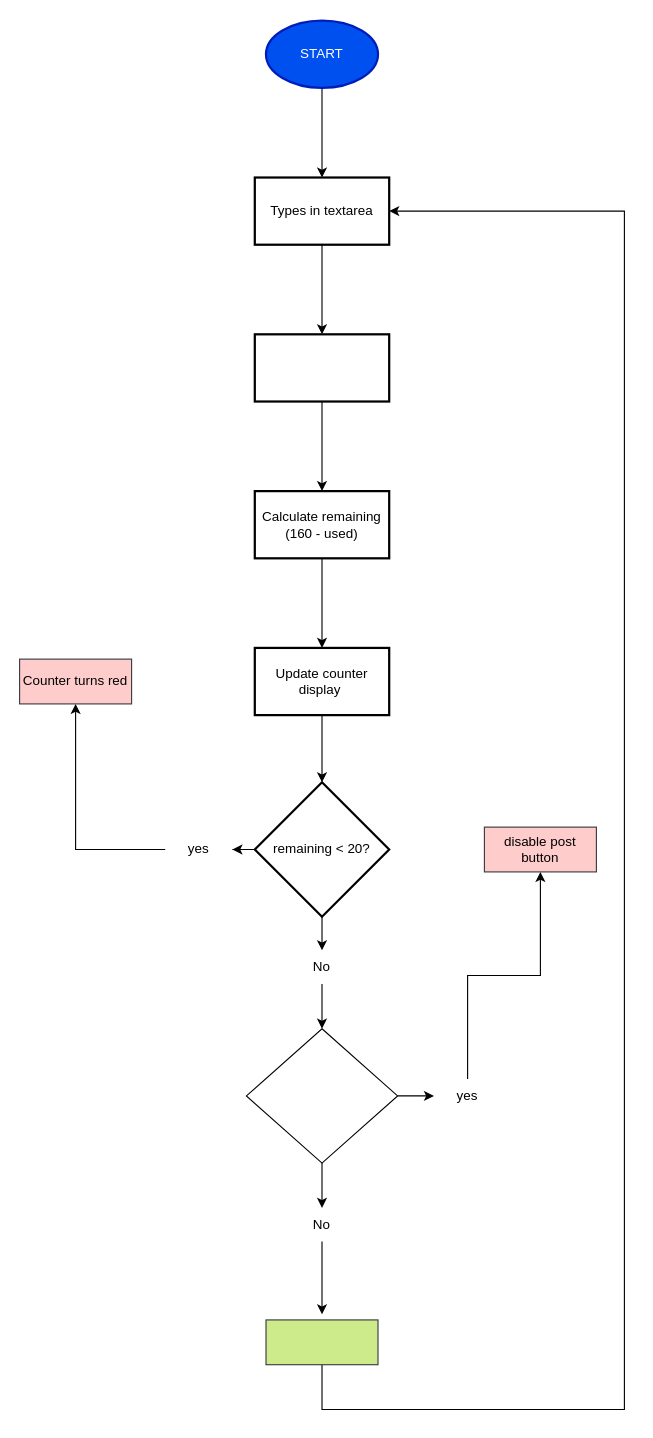
The diagram is 653 pixels wide and 1438 high, and some of its shapes have lost their labels. Here are the shapes that lost their labels. From the top down, the centre of each, then its label:
At (321,367): "Calculate characters length".
At (321,1095): "length === 0 OR remaining < 0?".
At (321,1342): "Enable post button".
